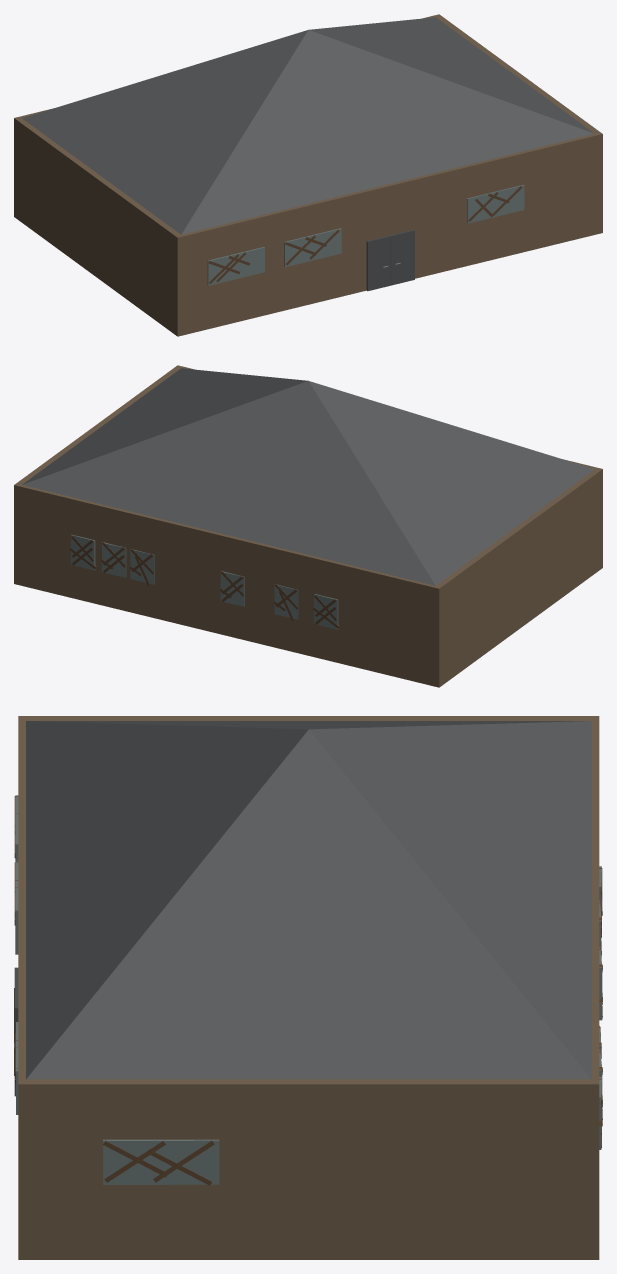
The model's file is supermarkVar1.glb.
3 renders of one model, top to bottom at view 1: azimuth 30°, elevation 25°; view 2: azimuth 150°, elevation 25°; view 3: azimuth 270°, elevation 25°, orthographic. The views are drawn at different scales.
Parts seen in each view (by area): view 1: fenster.003; view 2: fenster.003; view 3: fenster.003.
Part boxes in pixels (x1,y1,x2,y2): fenster.003: [14, 14, 602, 336]; fenster.003: [14, 365, 602, 687]; fenster.003: [14, 716, 602, 1259].
Size of the model in its own units: 18.08 by 7.89 by 12.16.
